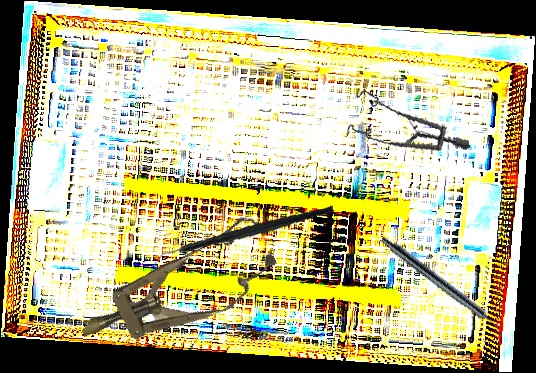Chopper: (153, 189, 334, 285)
Handpiece: (377, 234, 509, 338)
Speculum: (66, 209, 286, 370), (338, 68, 471, 172)
